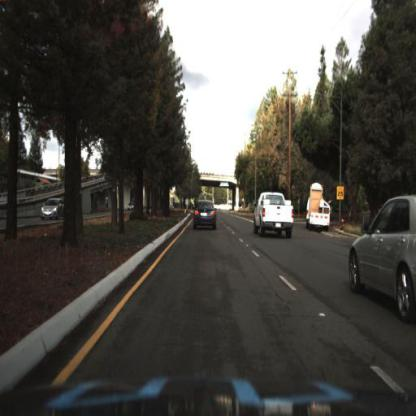car: (348, 186, 416, 318), (248, 182, 301, 239), (305, 183, 332, 234), (191, 192, 219, 232), (40, 197, 64, 223), (127, 201, 140, 217)
truck: (304, 180, 335, 232)
